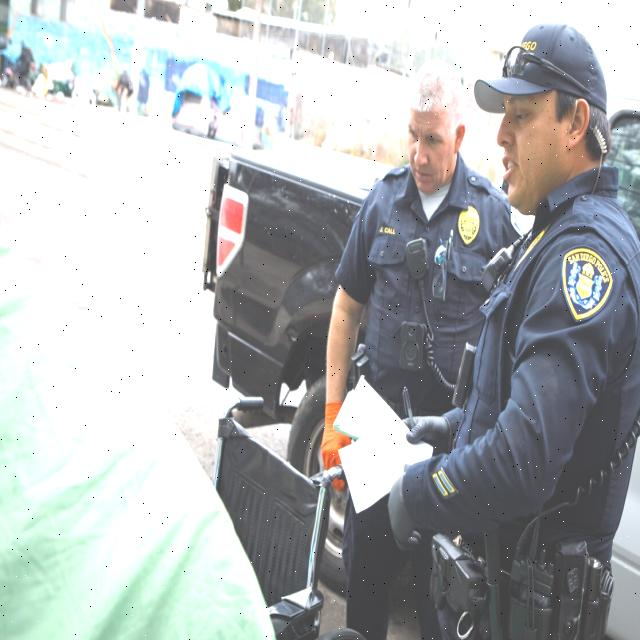police: (416, 15, 640, 640), (319, 37, 496, 470)
